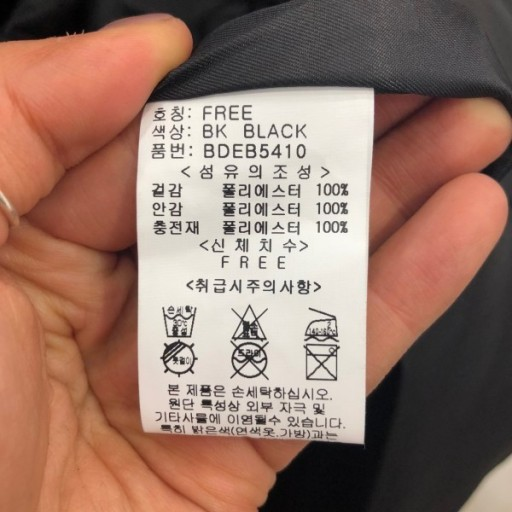KR_flat_dry_in_shade: (158, 341, 198, 377)
KR_hand_wash_30_neutral: (161, 302, 198, 341)
KR_iron_low_temp_with_cloth: (301, 343, 342, 385)
KR_iron_medium_temp_with_cloth: (301, 302, 341, 343)
KR_no_chlorine_bleach: (228, 305, 268, 341)
KR_no_dry_clean: (228, 342, 269, 382)
